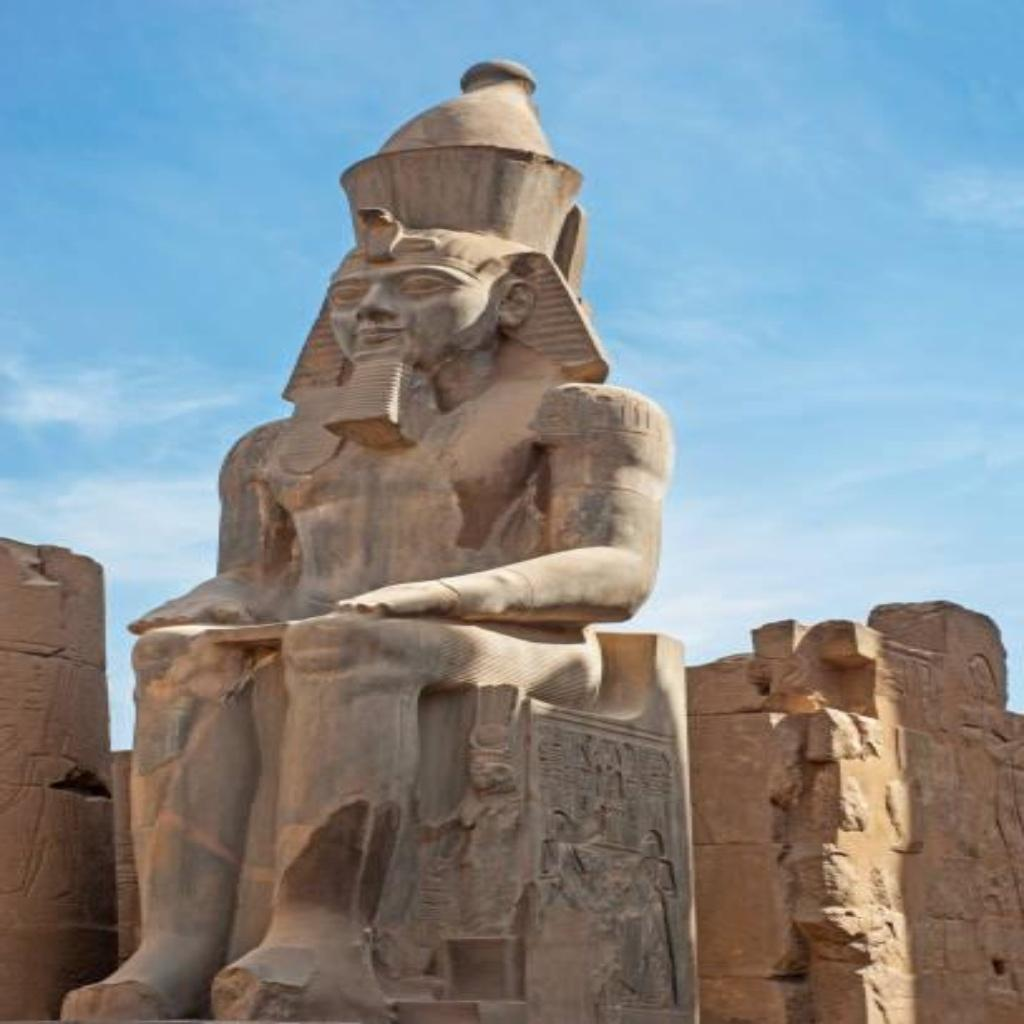Statue of King Ramses II Luxor Temple: (68, 57, 684, 1021)
